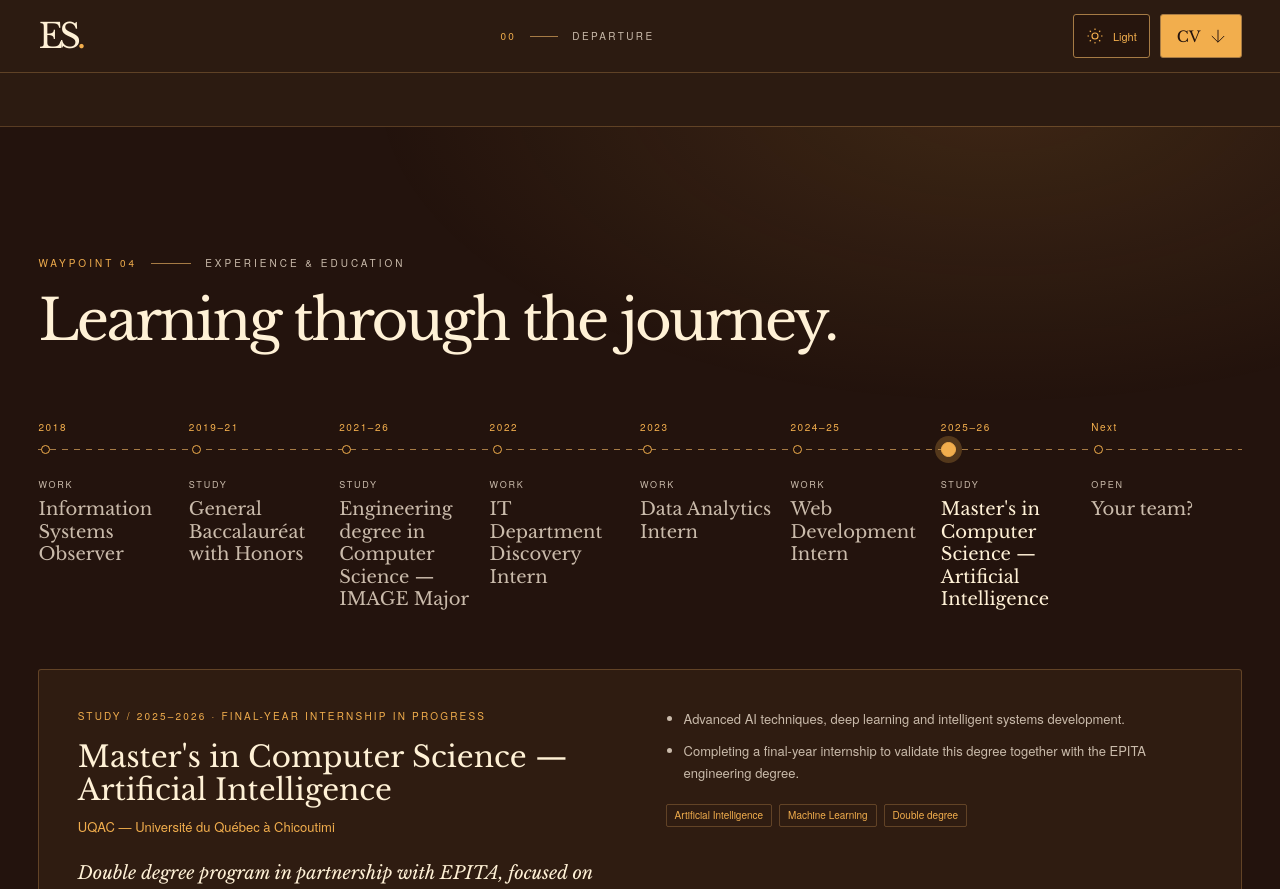
Test: the journey route opens on the latest study stop and merges work and education
(page scrolled)
Check: the panel shows "UQAC", box [78,817,335,836]
Click the tab "2018 Work Information Systems Observer": click(114, 491) [38,412,189,570]
(page scrolled)
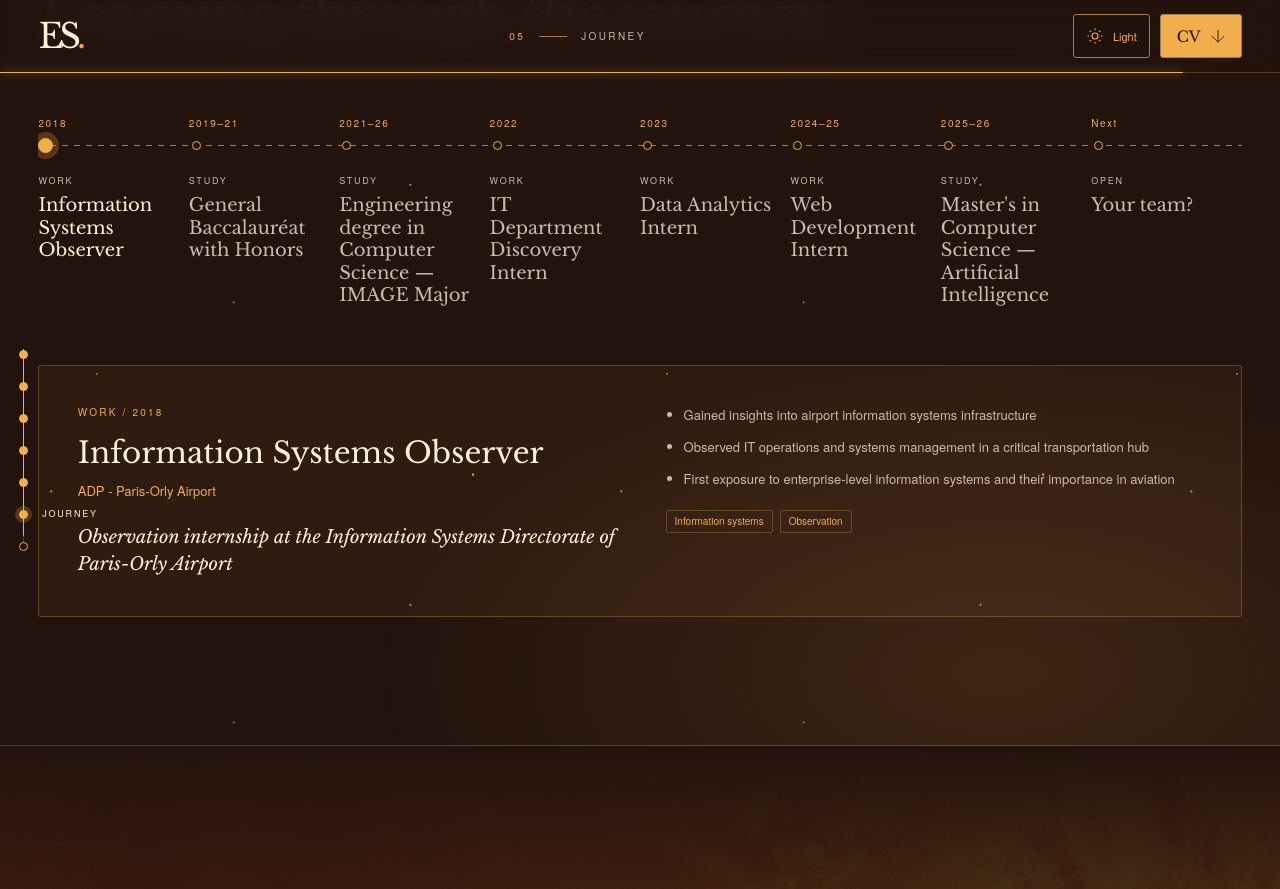
Check: the panel shows "Paris-Orly Airport", box [78,480,216,500]
Check: the panel shows "Work / 2018", box [38,365,1242,617]
